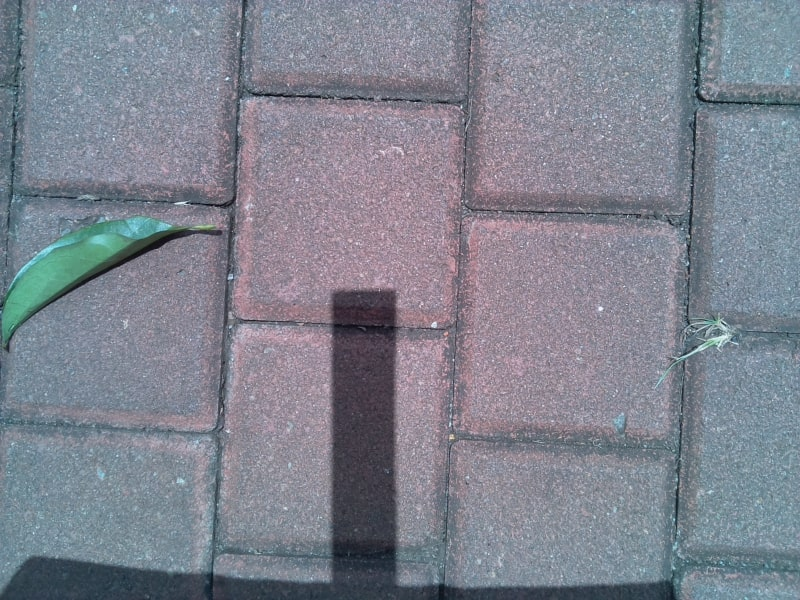Weed: (686, 316, 741, 357)
